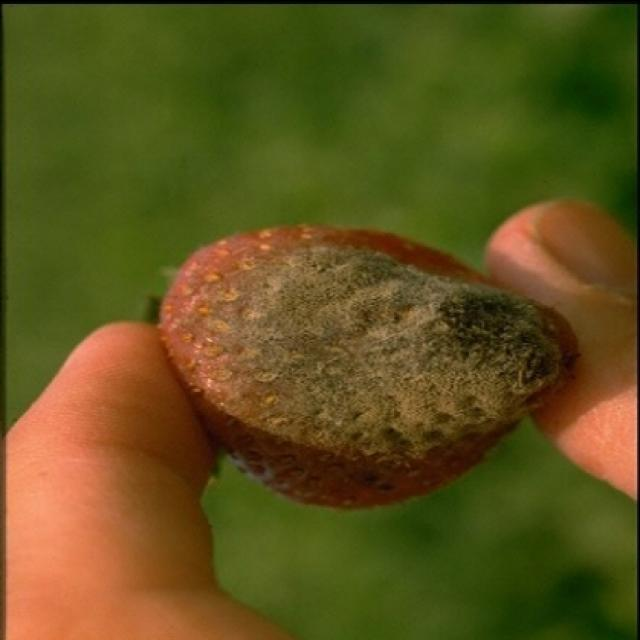Gray Mold: (167, 229, 578, 467)
